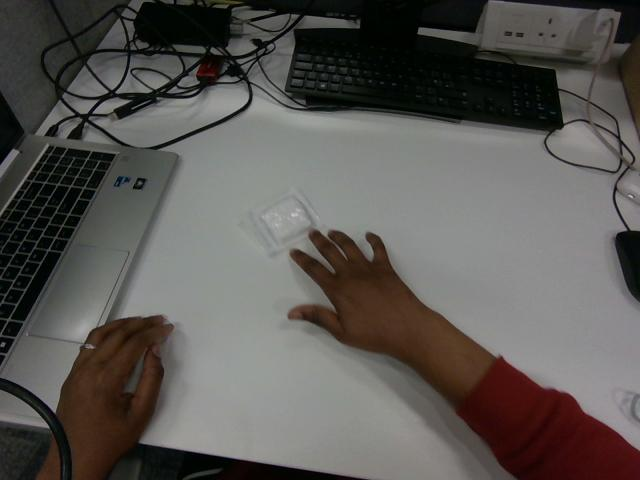gauze: (242, 189, 321, 255)
